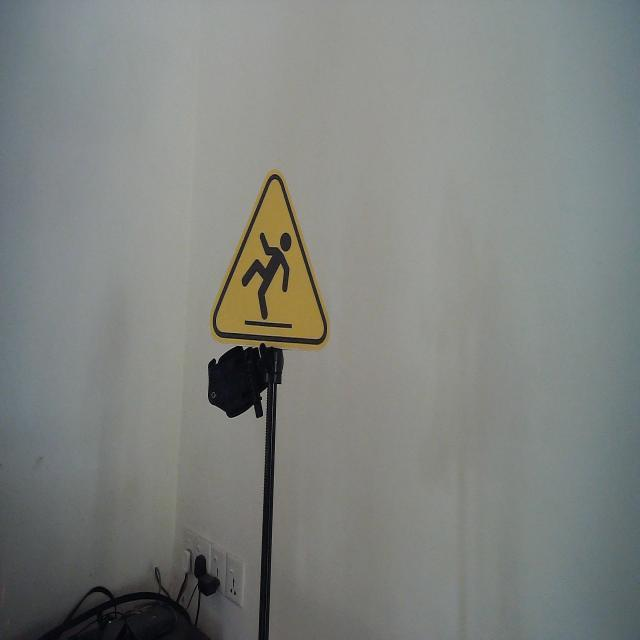slippery_sign: (208, 168, 332, 354)
